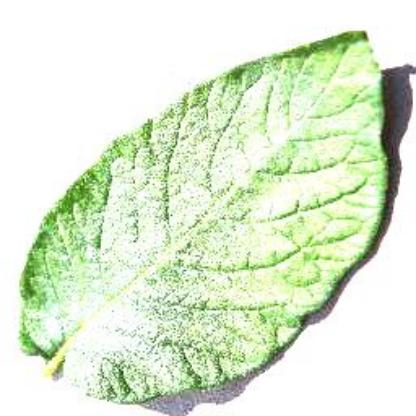Healthy-plant: (12, 22, 394, 404)
